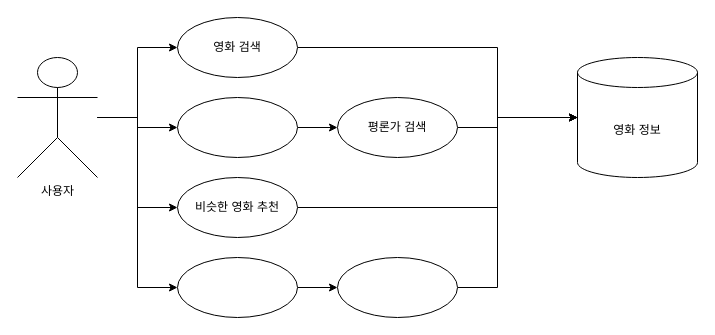
The diagram is 715 pixels wide and 335 high, and some of its shapes have lost their labels. The shapes that lost their labels are listed below. From the top down, each one's centre as x and y in pixels, then its label:
(237,127): 평론가 댓글 리스트
(237,287): 이스터에그
(397,287): 글 작성및 수정
